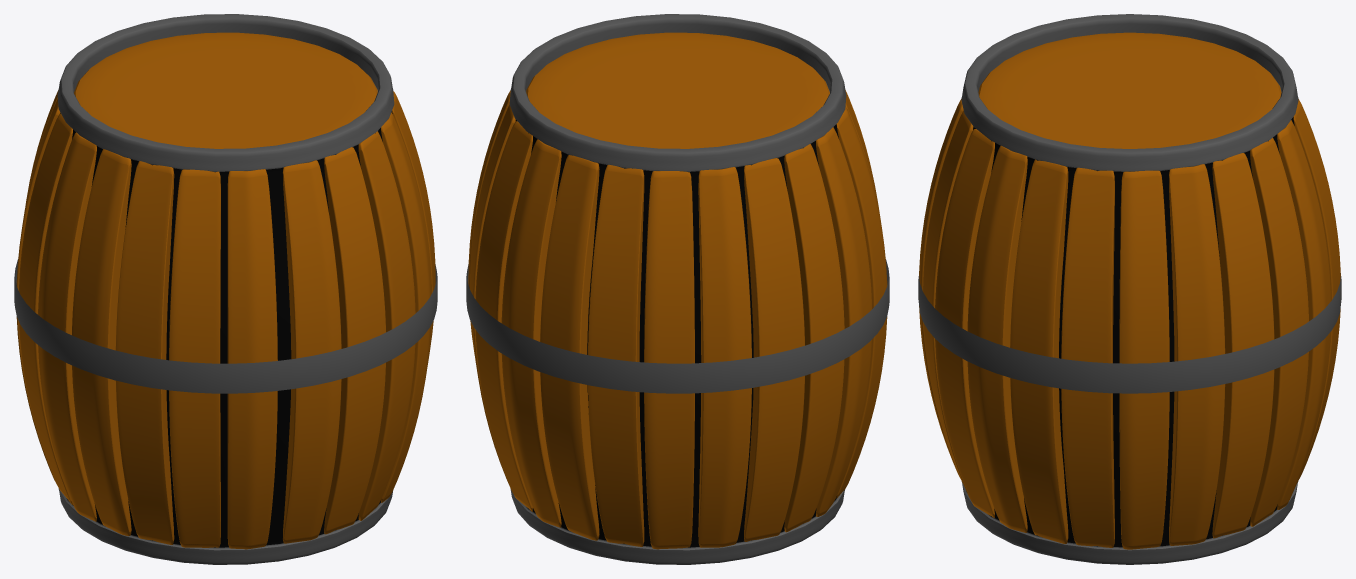
Rendered from BarrelBroken.fbx.
The picture shows the model from 3 angles, left to right: view 1: azimuth 30°, elevation 25°; view 2: azimuth 150°, elevation 25°; view 3: azimuth 270°, elevation 25°; orthographic projection.
Visible parts, largest first — view 1: ExportVer.; view 2: ExportVer.; view 3: ExportVer..
Part boxes in pixels (x1,y1,x2,y2): ExportVer.: (14, 14, 437, 564); ExportVer.: (466, 14, 889, 564); ExportVer.: (918, 14, 1341, 564).
Size of the model in its own units: 255 by 274 by 255.
